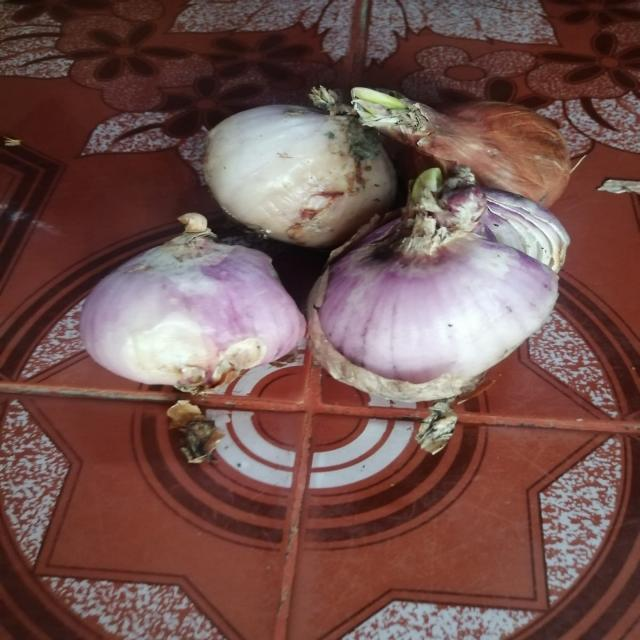rotten: (317, 152, 373, 238)
sprouting: (345, 88, 428, 132), (413, 170, 454, 232)
